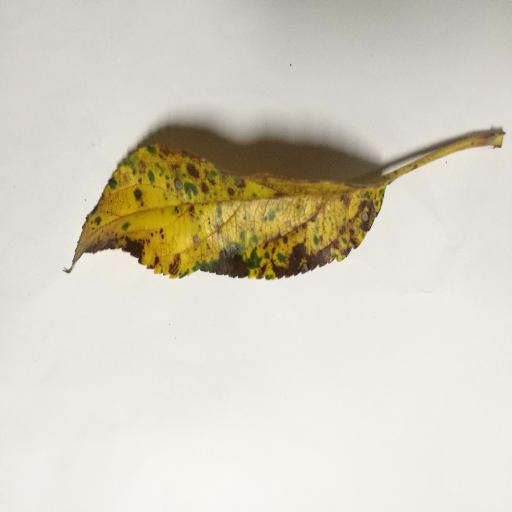Brown_Spot: (115, 166, 353, 266)
